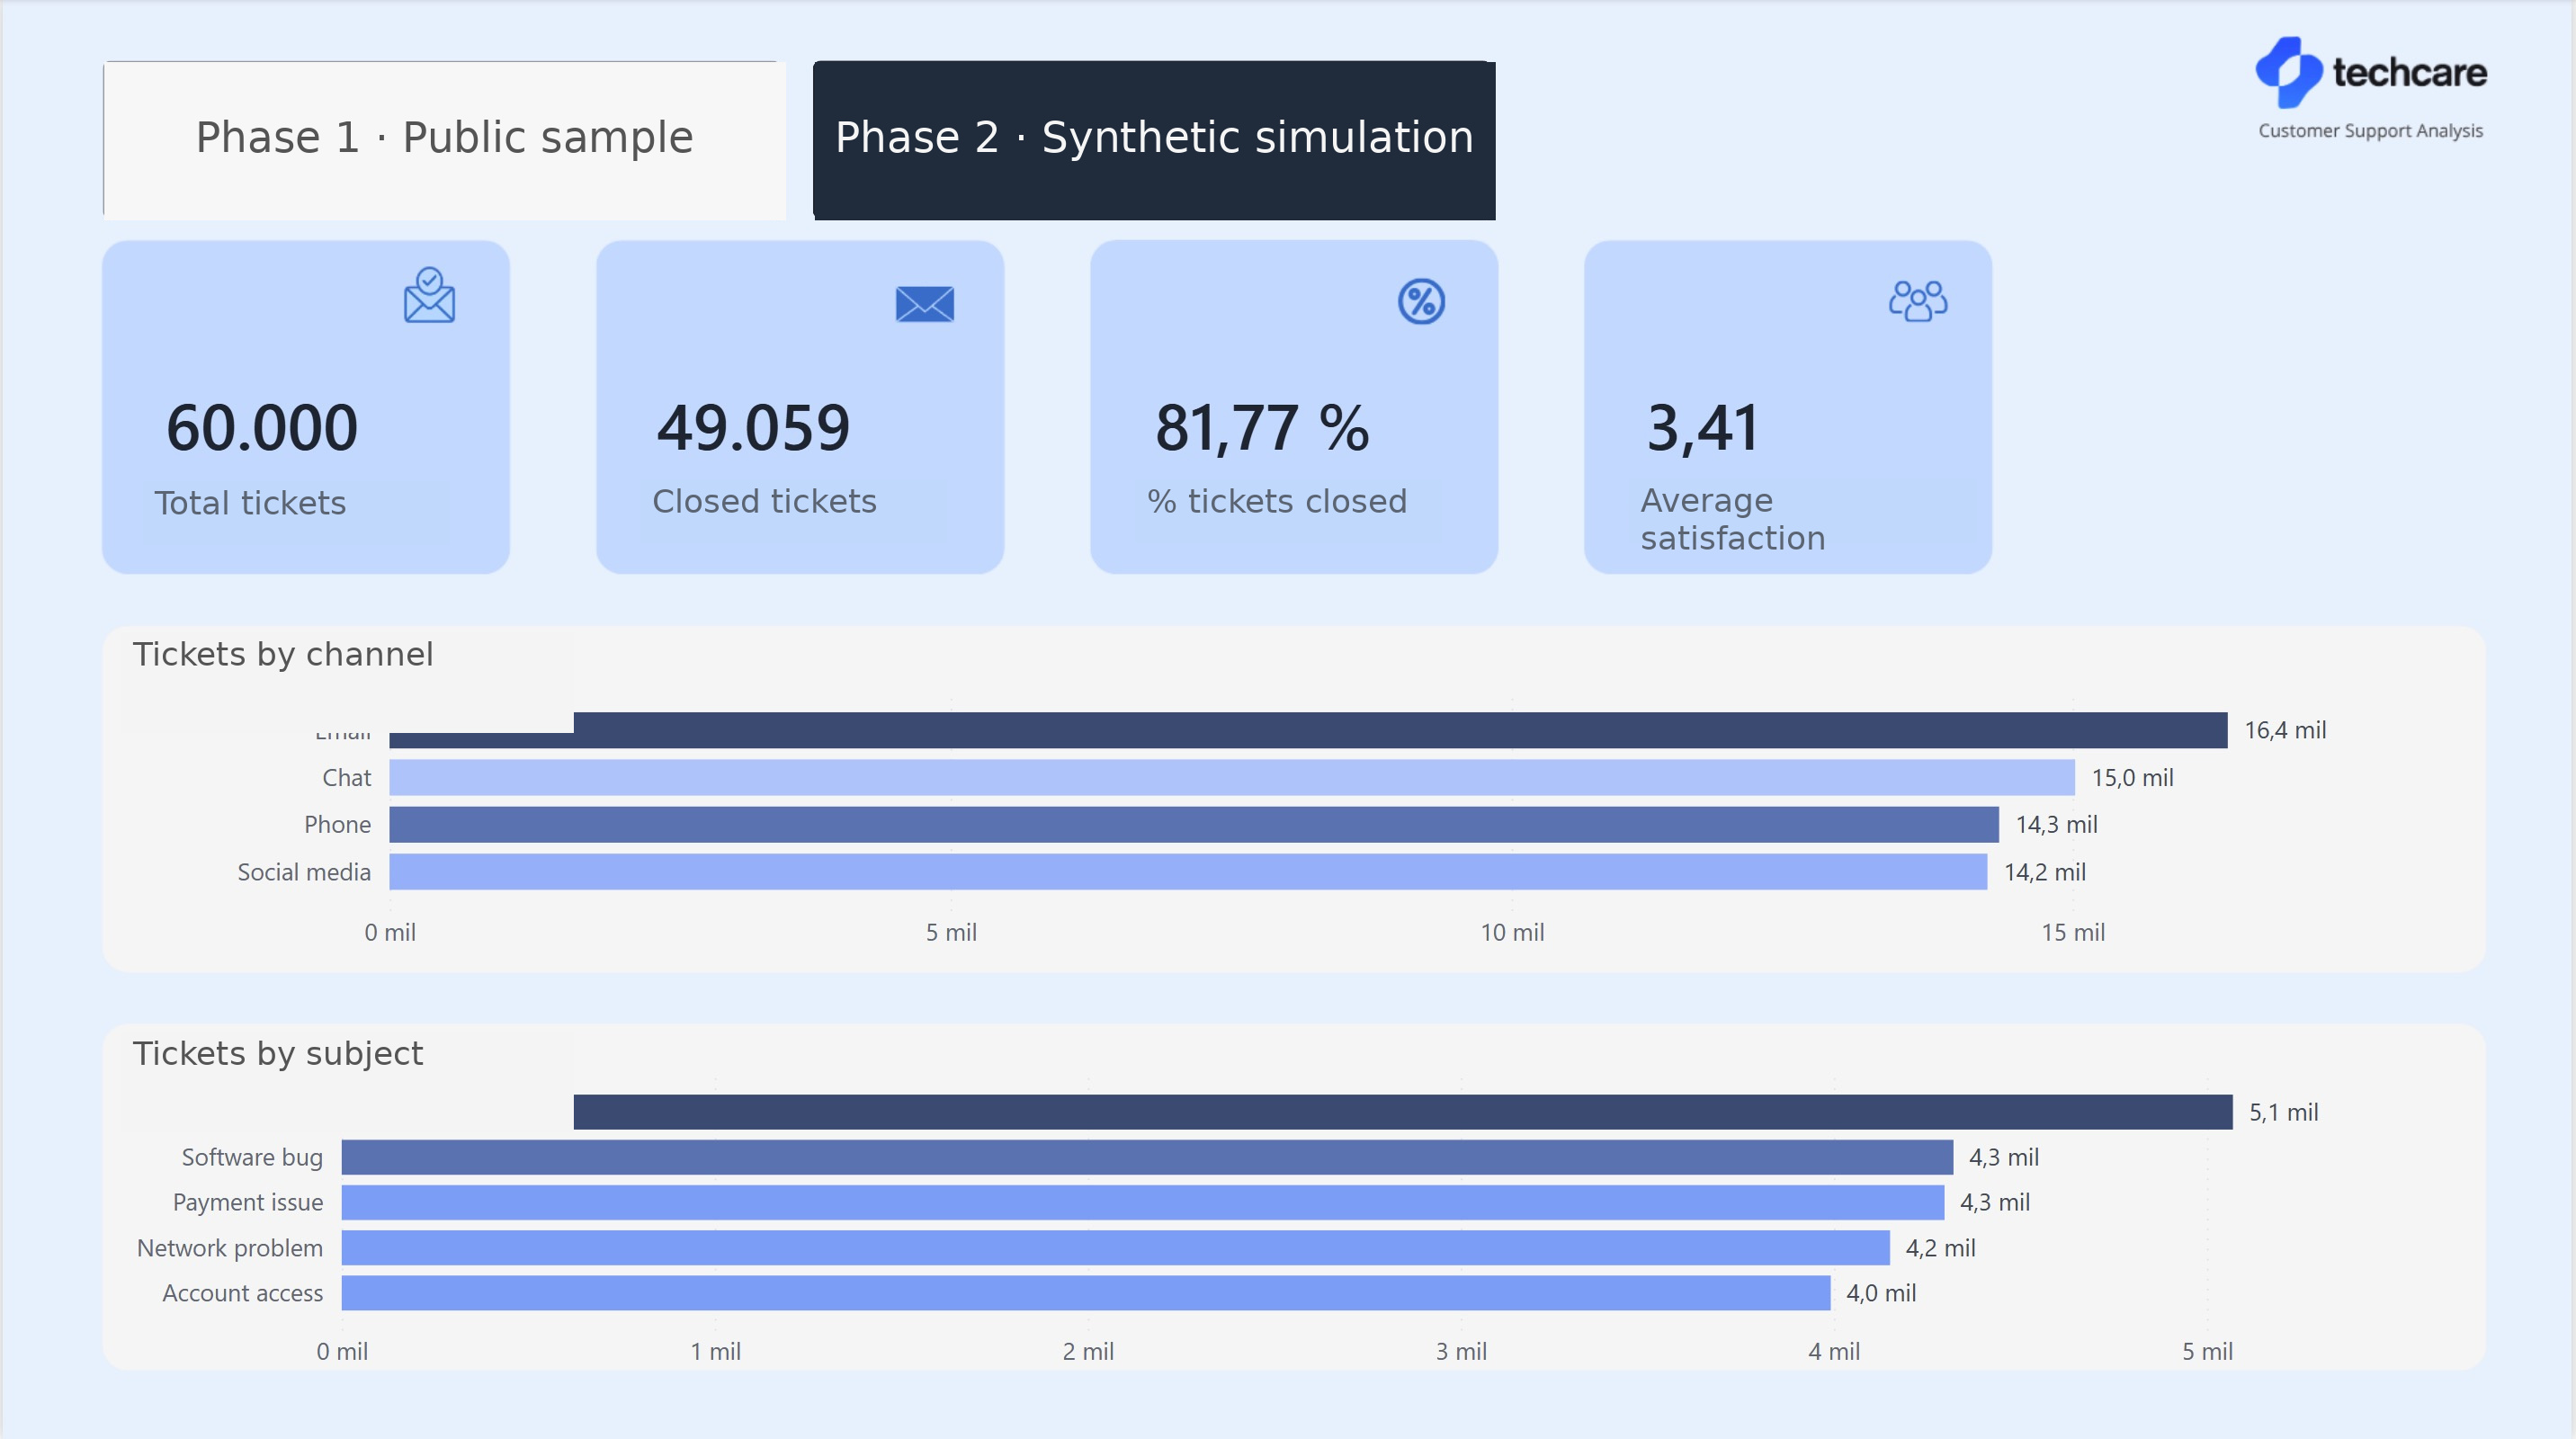

The dashboard page shown, as its layout file describes it:
{"tool":"powerbi","page":{"name":"Overview by Phase","canvas":[1280,720],"ordinal":0},"visuals":[{"type":"advancedSlicerVisual","fields":{"Values":["dim_fase.Etiqueta fase"]},"box":[44.6,26.5,703.4,89.1],"z":0},{"type":"cardVisual","fields":{"Data":["medidas_generales.Selected Phase Closed Tickets"]},"box":[297.2,152,192,118],"z":2000},{"type":"cardVisual","fields":{"Data":["medidas_generales.Selected Phase Closed Rate %"]},"box":[544.8,152,192,118],"z":3000},{"type":"cardVisual","fields":{"Data":["medidas_generales.Selected Phase Avg Satisfaction"]},"box":[789.5,152,192,118],"z":4000},{"type":"clusteredBarChart","fields":{"Category":["dim_canal.canal_nombre"],"Y":["medidas_generales.Selected Phase Total Tickets"]},"box":[106.1,334.6,1115.6,150.1],"z":5000},{"type":"cardVisual","fields":{"Data":["medidas_generales.Selected Phase Total Tickets"]},"box":[52.5,152,192,118],"z":6000},{"type":"textbox","box":[318.4,240,151.8,31.3],"z":7000},{"type":"textbox","box":[564.1,240,151.8,31.3],"z":8000},{"type":"textbox","box":[809.2,239.6,172.7,32],"z":9000},{"type":"textbox","box":[71.1,240.6,151.8,31.3],"z":10000},{"type":"clusteredBarChart","fields":{"Category":["dim_asunto.asunto_nombre"],"Y":["medidas_generales.Selected Phase Total Tickets"]},"box":[52.6,525.8,1156.7,168.2],"z":11000},{"type":"textbox","box":[60.2,316.4,224.2,50.1],"z":14000},{"type":"textbox","box":[60.2,516.2,224.2,50.1],"z":15000}]}

Visuals, with their boxes in screenshot pixels (x1, y1, x2, y2), scaled from the page's 1280x720 canvas onto the 2576x1439 screenshot:
advancedSlicerVisual - dim_fase.Etiqueta fase: [x1=90, y1=53, x2=1506, y2=231]
cardVisual - medidas_generales.Selected Phase Closed Tickets: [x1=598, y1=304, x2=985, y2=540]
cardVisual - medidas_generales.Selected Phase Closed Rate %: [x1=1096, y1=304, x2=1483, y2=540]
cardVisual - medidas_generales.Selected Phase Avg Satisfaction: [x1=1589, y1=304, x2=1975, y2=540]
clusteredBarChart - dim_canal.canal_nombre x medidas_generales.Selected Phase Total Tickets: [x1=213, y1=669, x2=2459, y2=969]
cardVisual - medidas_generales.Selected Phase Total Tickets: [x1=105, y1=304, x2=492, y2=540]
textbox: [x1=640, y1=479, x2=946, y2=542]
textbox: [x1=1135, y1=479, x2=1441, y2=542]
textbox: [x1=1629, y1=478, x2=1976, y2=543]
textbox: [x1=143, y1=481, x2=449, y2=543]
clusteredBarChart - dim_asunto.asunto_nombre x medidas_generales.Selected Phase Total Tickets: [x1=106, y1=1050, x2=2434, y2=1387]
textbox: [x1=121, y1=632, x2=572, y2=732]
textbox: [x1=121, y1=1032, x2=572, y2=1131]
